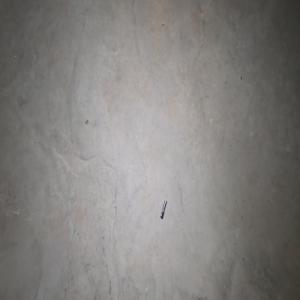Battery: (160, 199, 167, 219)
